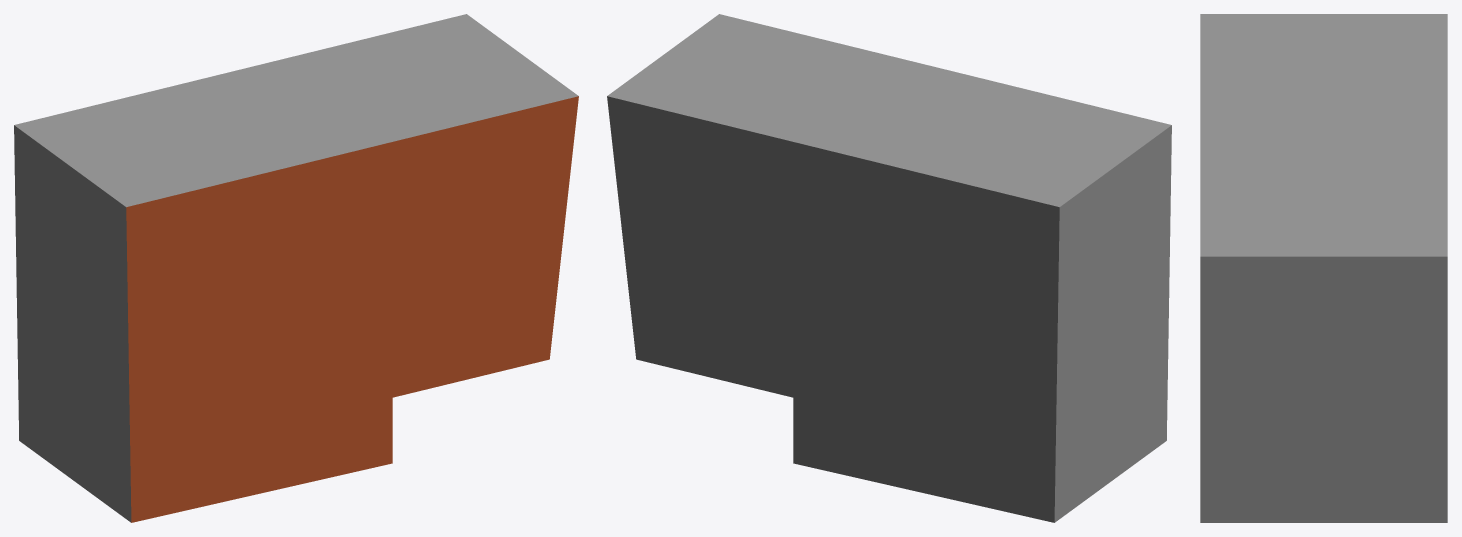
Rendered from construction_1330_assumed_A_Casa_h6m.obj.
The picture shows the model from 3 angles, left to right: view 1: azimuth 30°, elevation 25°; view 2: azimuth 150°, elevation 25°; view 3: azimuth 270°, elevation 25°; orthographic projection. The views are drawn at different scales.
Visible parts, largest first — view 1: construction_1330_assumed_A_Casa; view 2: construction_1330_assumed_A_Casa; view 3: construction_1330_assumed_A_Casa.
Part boxes in pixels (<box>): construction_1330_assumed_A_Casa: <box>14,14,578,522</box>; construction_1330_assumed_A_Casa: <box>607,14,1171,522</box>; construction_1330_assumed_A_Casa: <box>1200,14,1447,522</box>.
Size of the model in its own units: 13.97 by 9.49 by 6.
